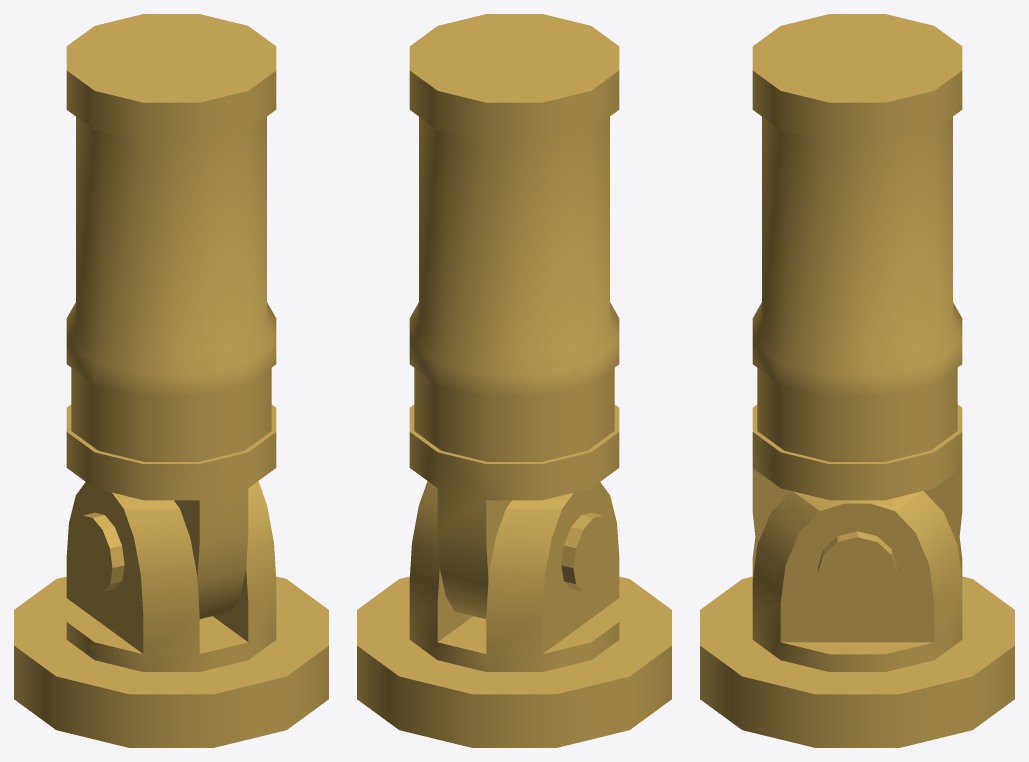
File: smoke_mortar.fbx
The picture shows the model from 3 angles, left to right: view 1: azimuth 30°, elevation 25°; view 2: azimuth 150°, elevation 25°; view 3: azimuth 270°, elevation 25°; orthographic projection.
Visible parts, largest first — view 1: Cylinder; view 2: Cylinder; view 3: Cylinder.
Part boxes in pixels (x1,y1,x2,y2): Cylinder: (14,14,328,747); Cylinder: (357,14,671,747); Cylinder: (700,14,1014,747).
Bounding box in the file's own units: 79.69 × 174 × 79.69.
